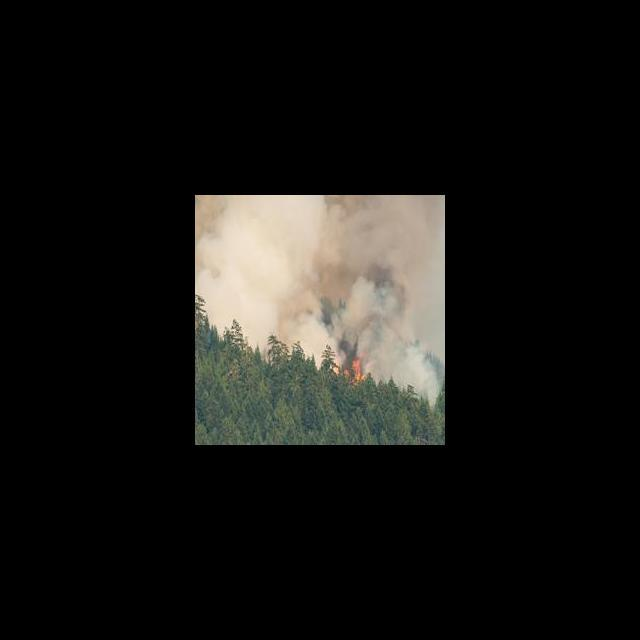Fire: (324, 348, 372, 387)
Smoke: (195, 195, 442, 408)
